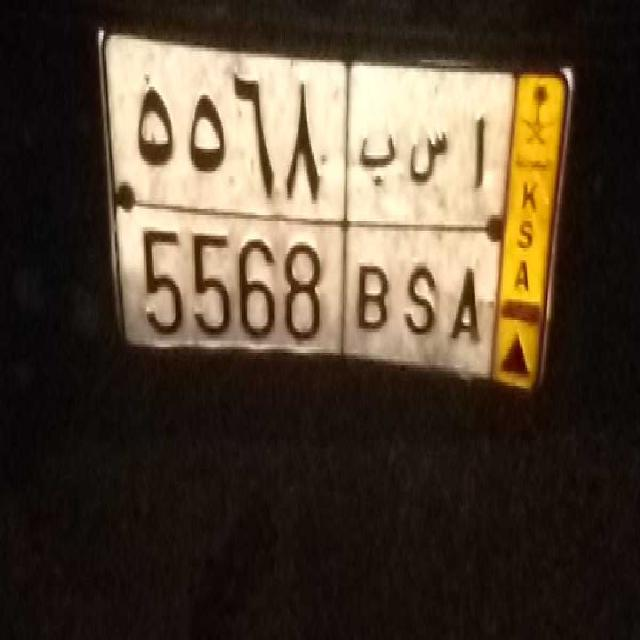license_plate: (126, 199, 491, 391)
